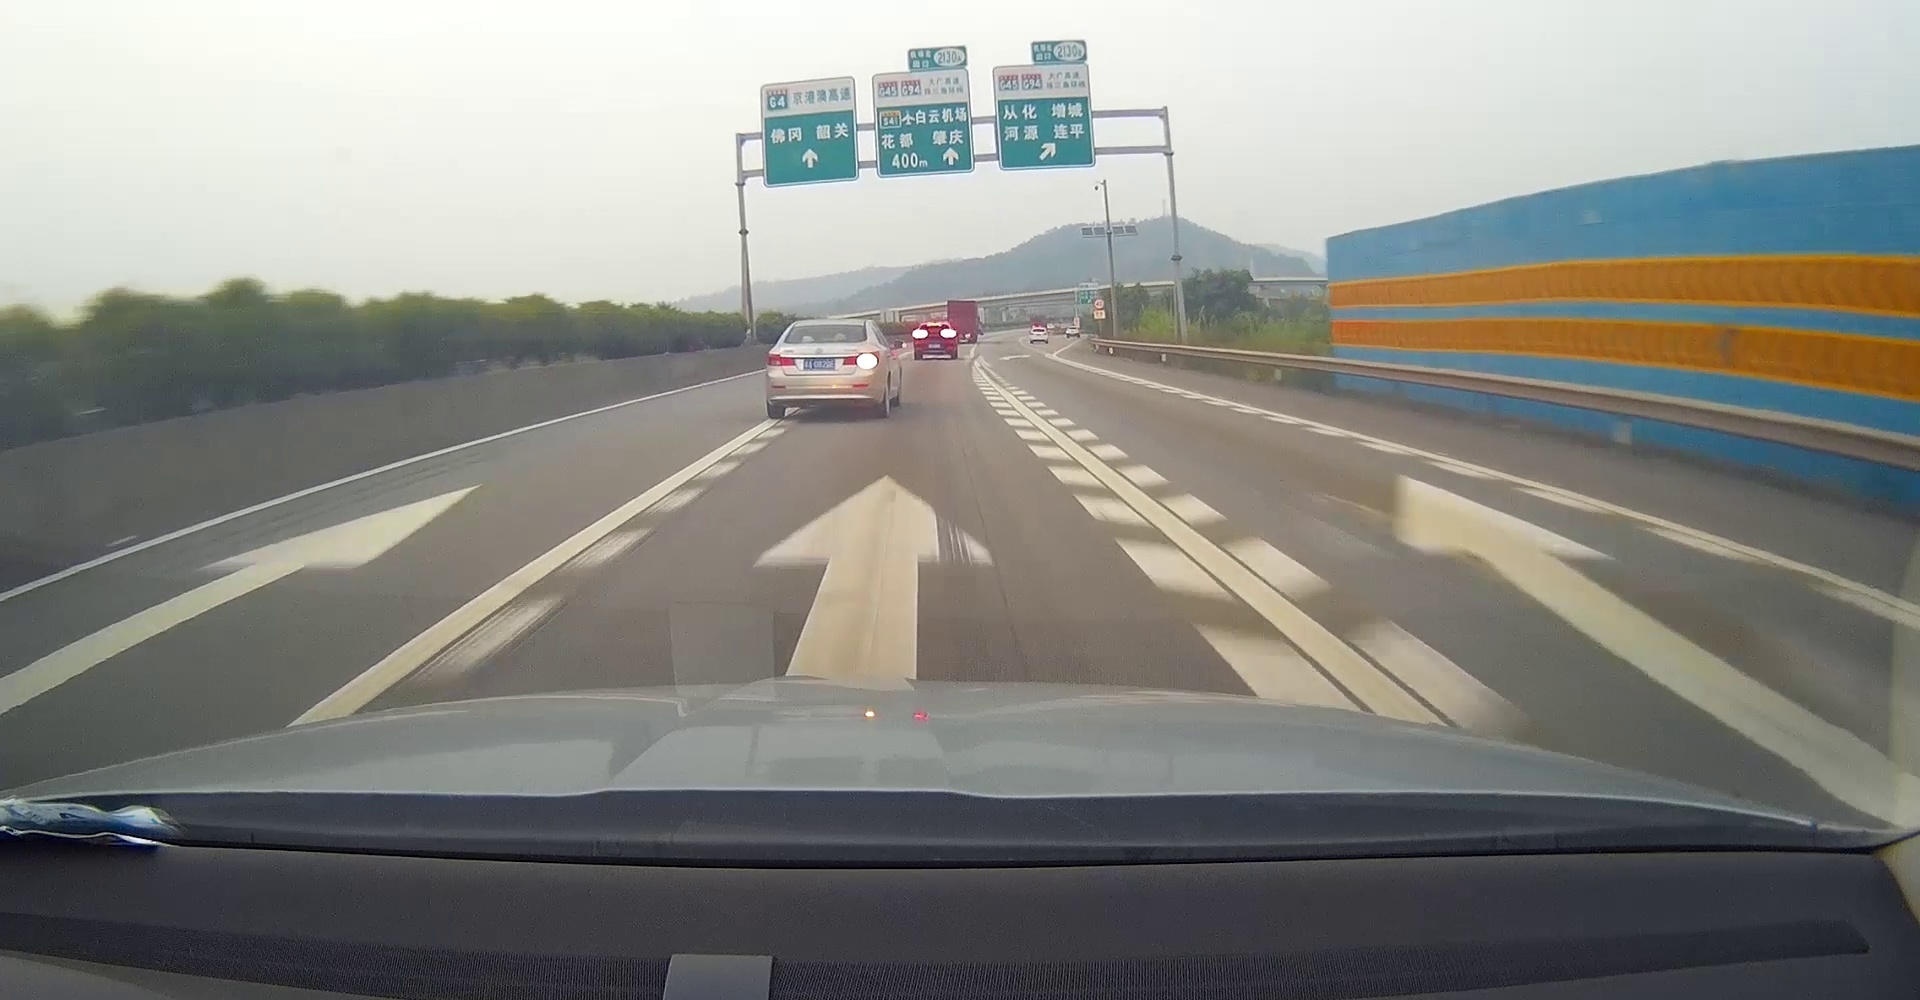L_light: (767, 353, 794, 365), (913, 330, 928, 339)
R_light: (843, 350, 880, 368), (940, 330, 956, 338)
T_light: (820, 325, 834, 330), (928, 324, 941, 326)
day-brake: (913, 322, 957, 360)
day-right: (764, 319, 881, 418)
